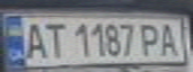1: (69, 19, 90, 57), (87, 20, 106, 57)
7: (118, 20, 139, 56)
8: (103, 20, 124, 56)
A: (21, 19, 48, 61), (154, 20, 184, 57)
P: (136, 20, 163, 57)
T: (39, 19, 69, 60)
